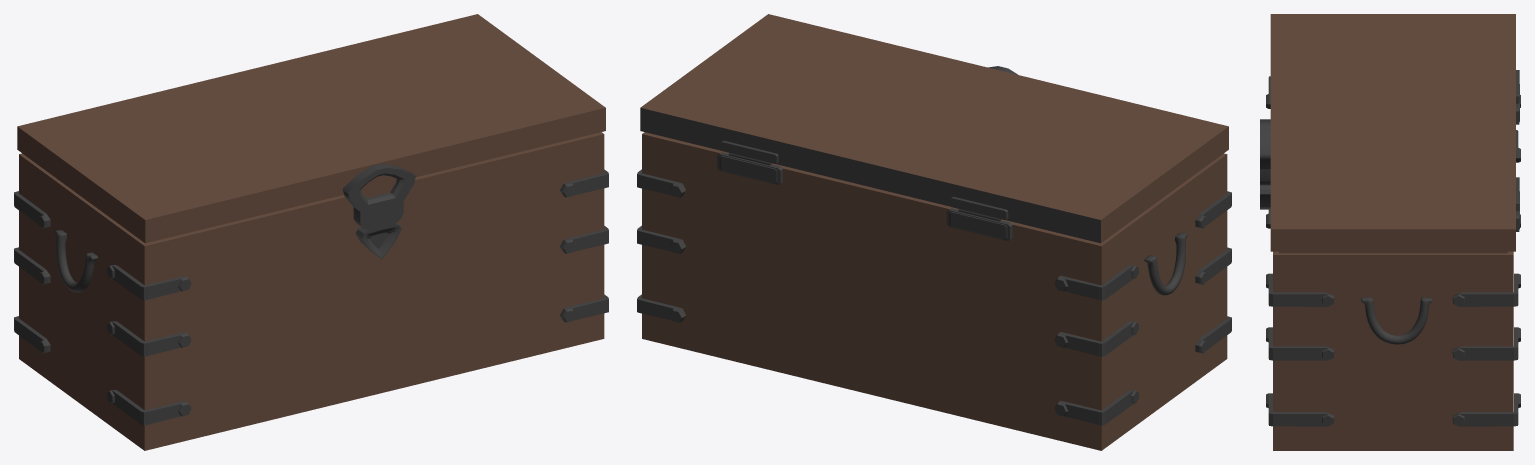
The model's file is coffre.fbx.
The picture shows the model from 3 angles, left to right: view 1: azimuth 30°, elevation 25°; view 2: azimuth 150°, elevation 25°; view 3: azimuth 270°, elevation 25°; orthographic projection. The views are drawn at different scales.
Visible parts, largest first — view 1: pCube23; view 2: pCube23; view 3: pCube23.
Part boxes in pixels (bbox=[...]): pCube23: bbox=[14, 14, 608, 450]; pCube23: bbox=[637, 14, 1231, 450]; pCube23: bbox=[1260, 14, 1520, 450].
Bounding box in the file's own units: 474 × 218 × 232.
